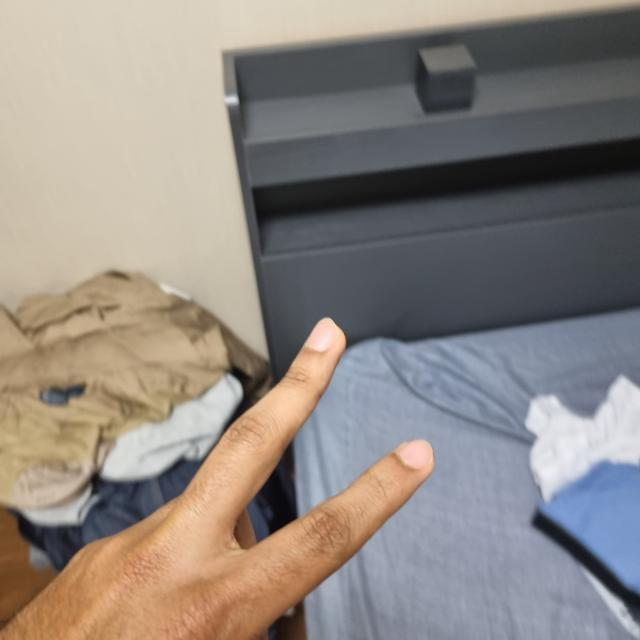Scissors: (8, 320, 427, 638)
